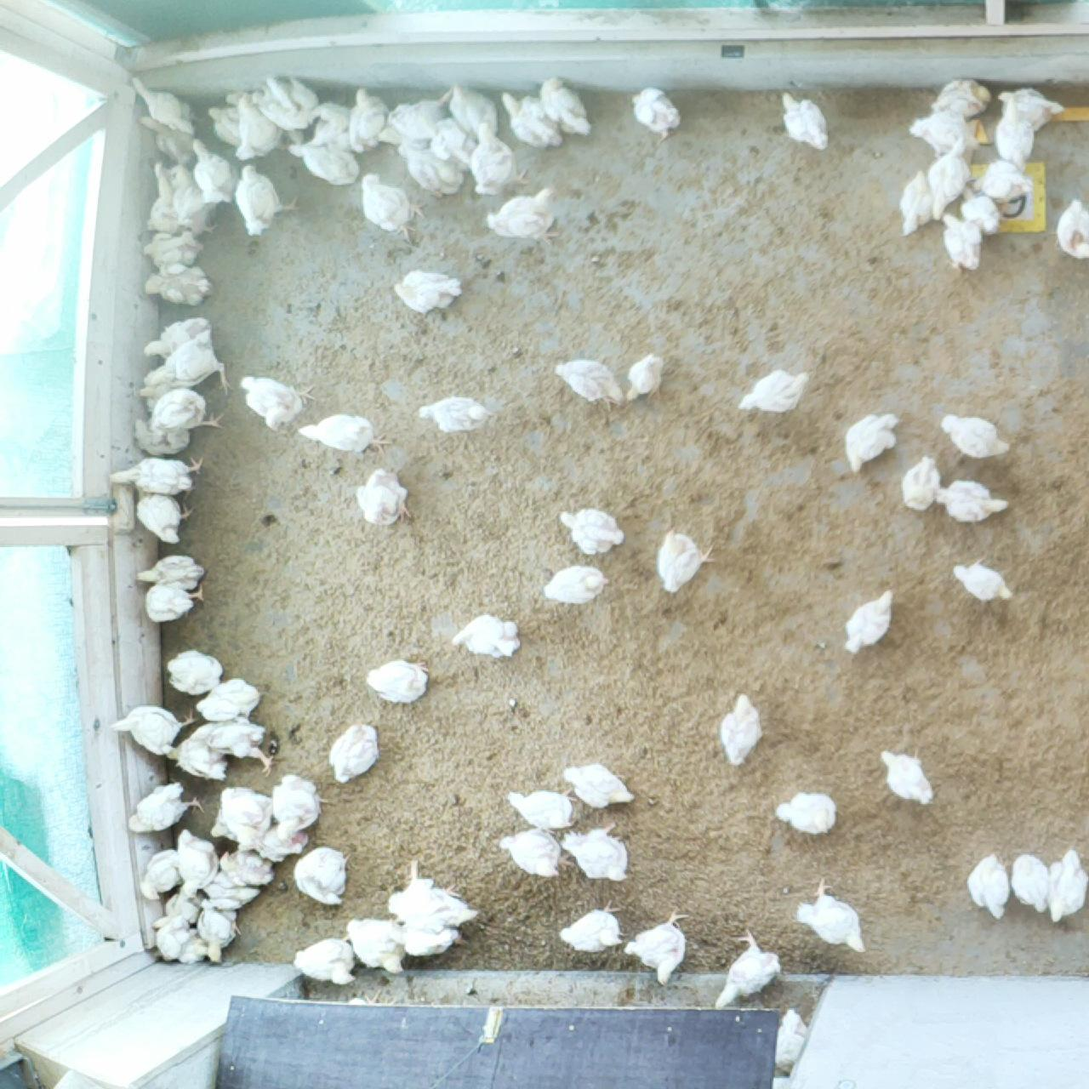chicken: (791, 870, 872, 961), (385, 857, 481, 933), (711, 921, 784, 1011), (142, 328, 234, 395), (621, 904, 691, 989), (483, 184, 570, 250), (232, 162, 304, 241), (105, 450, 210, 501), (359, 169, 430, 244), (190, 717, 275, 779), (249, 71, 321, 142), (556, 819, 632, 885), (469, 119, 531, 199), (108, 702, 200, 755), (653, 525, 720, 597), (128, 72, 198, 140), (269, 768, 330, 846), (239, 372, 317, 433), (841, 408, 906, 481), (496, 86, 566, 153), (495, 824, 577, 881), (294, 411, 395, 457), (288, 841, 355, 910), (735, 362, 812, 422), (125, 778, 205, 835), (555, 895, 626, 958), (926, 133, 974, 225), (394, 139, 466, 200), (352, 464, 416, 532), (936, 407, 1012, 464), (840, 585, 899, 658), (931, 476, 1012, 529), (716, 688, 767, 771), (342, 914, 409, 976), (554, 761, 637, 811), (378, 94, 452, 150), (284, 139, 361, 191), (187, 133, 241, 207), (537, 72, 593, 143), (170, 163, 222, 239), (326, 719, 384, 787), (552, 355, 629, 406), (229, 91, 282, 165), (143, 388, 226, 435), (993, 93, 1040, 176), (907, 110, 982, 162), (553, 504, 627, 556), (505, 786, 583, 835), (964, 848, 1013, 926), (995, 82, 1067, 135), (132, 486, 194, 547), (448, 610, 522, 661), (392, 263, 463, 316), (190, 674, 264, 724), (292, 936, 362, 988), (364, 656, 434, 708), (778, 88, 834, 153), (772, 786, 843, 837), (386, 917, 470, 960), (415, 393, 499, 436), (219, 784, 273, 850), (144, 259, 215, 309), (140, 312, 212, 361), (969, 154, 1038, 205), (950, 552, 1015, 606), (1044, 846, 1089, 924), (878, 748, 936, 808), (174, 828, 221, 901), (540, 562, 613, 609), (160, 647, 227, 698), (628, 83, 683, 145), (141, 160, 184, 239), (136, 112, 198, 166), (237, 820, 311, 865), (142, 575, 207, 626), (937, 209, 986, 275), (1005, 851, 1054, 916), (449, 80, 501, 141), (897, 449, 944, 516), (927, 74, 994, 120), (164, 735, 232, 780), (196, 901, 243, 965), (347, 84, 388, 156), (132, 552, 207, 591), (899, 166, 938, 241), (137, 844, 184, 905), (773, 1005, 813, 1076), (430, 114, 480, 170), (149, 886, 207, 934), (127, 414, 194, 454), (958, 179, 1003, 237), (306, 98, 357, 148), (1053, 193, 1089, 263), (139, 229, 205, 267), (201, 872, 262, 912), (219, 845, 275, 888), (624, 350, 667, 403), (206, 104, 247, 150), (157, 914, 194, 964), (135, 382, 175, 419), (206, 807, 242, 843), (179, 934, 211, 968)
